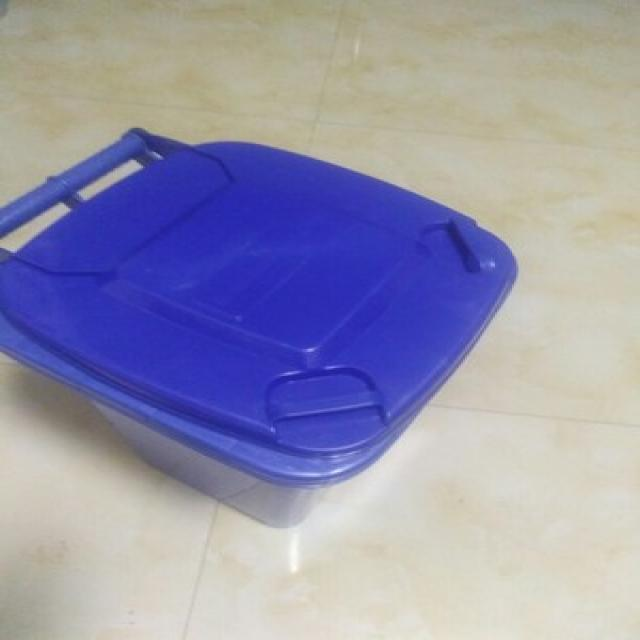ash bin: (2, 123, 516, 530)
